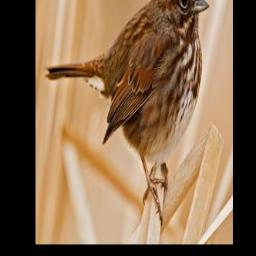Sparrow: (45, 0, 211, 226)
